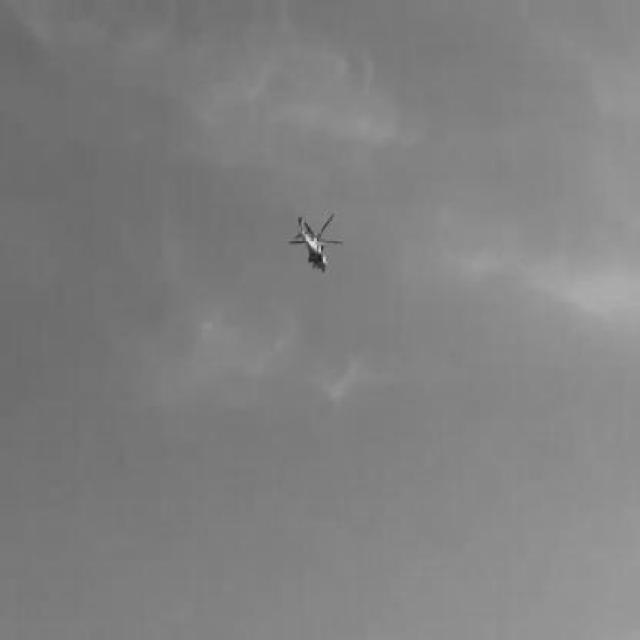helikopter: (290, 213, 339, 272)
